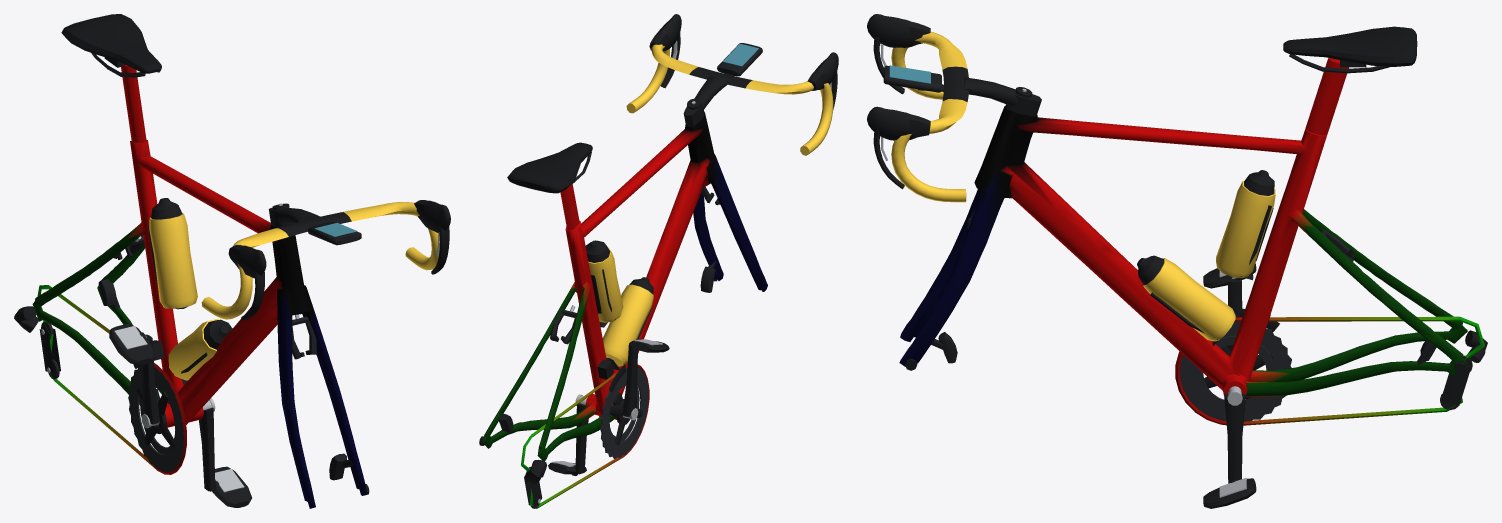
Rendered from aero.glb.
The picture shows the model from 3 angles, left to right: view 1: azimuth 30°, elevation 25°; view 2: azimuth 150°, elevation 25°; view 3: azimuth 270°, elevation 25°; orthographic projection. The views are drawn at different scales.
Parts seen in each view (by area): view 1: frame, cockpit, opt_bottles, crankset, saddle, opt_derailleur, pedal_R, pedal_L, opt_brakes_disc, opt_brakes_rim; view 2: frame, cockpit, opt_bottles, crankset, saddle, opt_derailleur, opt_brakes_disc, opt_brakes_rim, pedal_R; view 3: frame, cockpit, opt_bottles, crankset, saddle, opt_derailleur, pedal_L, opt_brakes_disc.
Part boxes in pixels (x1,y1,x2,y2): frame: (32,65,366,508); cockpit: (201,200,450,320); opt_bottles: (148,198,232,385); crankset: (128,334,215,491); saddle: (61,14,161,77); opt_derailleur: (14,306,164,379); pedal_R: (109,323,155,364); pedal_L: (212,466,251,507); opt_brakes_disc: (98,279,369,494); opt_brakes_rim: (113,235,316,359); frame: (483,112,767,508); cockpit: (626,14,838,155); opt_bottles: (585,240,653,369); crankset: (575,340,648,474); saddle: (507,142,592,193); opt_derailleur: (524,359,625,508); opt_brakes_disc: (479,260,717,445); opt_brakes_rim: (550,186,720,344); pedal_R: (630,338,669,352); frame: (899,58,1484,425); cockpit: (867,14,1041,202); opt_bottles: (1137,170,1275,346); crankset: (1180,279,1291,483); saddle: (1283,26,1417,73); opt_derailleur: (1240,308,1487,410); pedal_L: (1203,478,1256,508); opt_brakes_disc: (905,332,1466,374).
Size of the model in its own units: 0.4654 by 0.8869 by 1.13.
